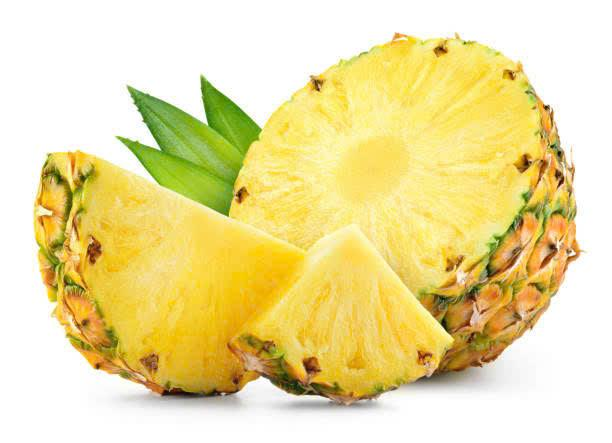pineapple: (43, 152, 458, 404), (238, 22, 560, 279)
